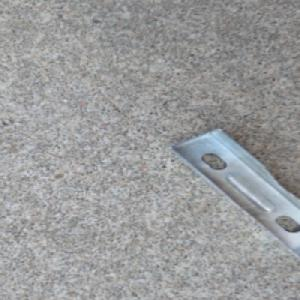ClampPart: (166, 127, 300, 264)
